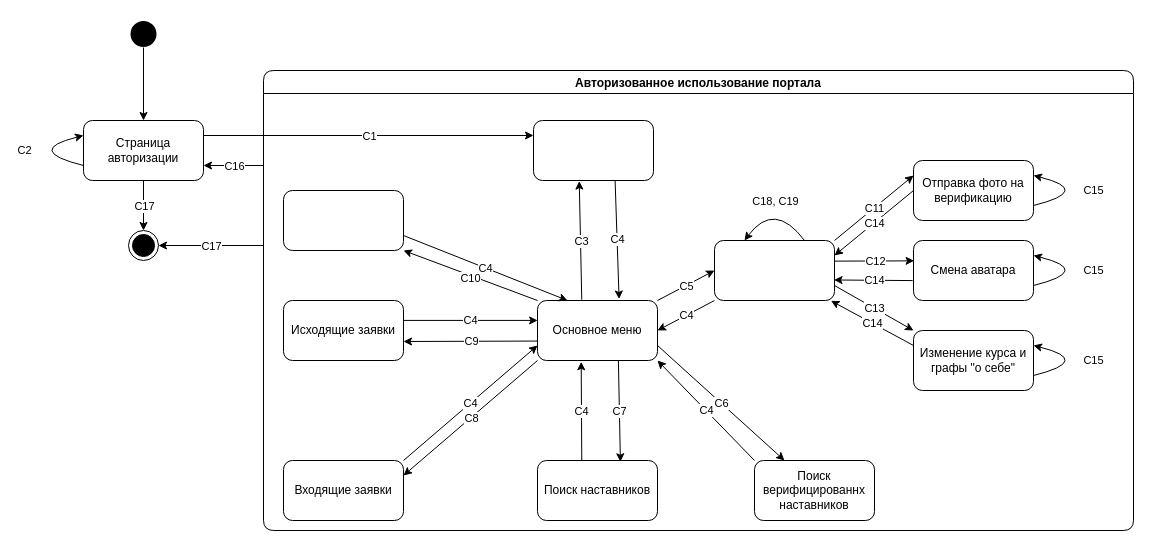
Some shapes in this 1151 by 548 pixel diagram are drawn without their labels. The shapes that lost their labels are listed below. From the top down, each one's box as (x1, y1, x2, y2) in pixels, then its label:
(532, 120, 654, 180): Главная страница
(282, 190, 404, 250): Список друзей
(714, 240, 834, 300): Управление аккаунтом
